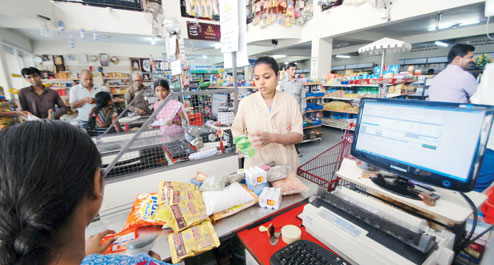Age_20_30: (19, 68, 46, 89), (151, 82, 172, 102)
Age_30_40: (448, 43, 478, 73)
Age_40_50: (78, 71, 98, 91)
Age_above_50: (130, 72, 145, 90)
Age_below20: (251, 59, 281, 98)
E_Indian: (251, 59, 281, 98), (448, 43, 478, 73), (19, 68, 46, 89), (151, 82, 172, 102), (78, 71, 98, 91), (130, 72, 145, 90)
Emotion_Happy: (448, 43, 478, 73)
Emotion_Neutral: (251, 59, 281, 98), (151, 82, 172, 102), (78, 71, 98, 91), (130, 72, 145, 90)
Emotion_Sad: (19, 68, 46, 89)
G_ Female: (251, 59, 281, 98), (151, 82, 172, 102)
G_Male: (448, 43, 478, 73), (19, 68, 46, 89), (78, 71, 98, 91), (130, 72, 145, 90)
Not_Face: (8, 125, 110, 234), (99, 89, 114, 107)
